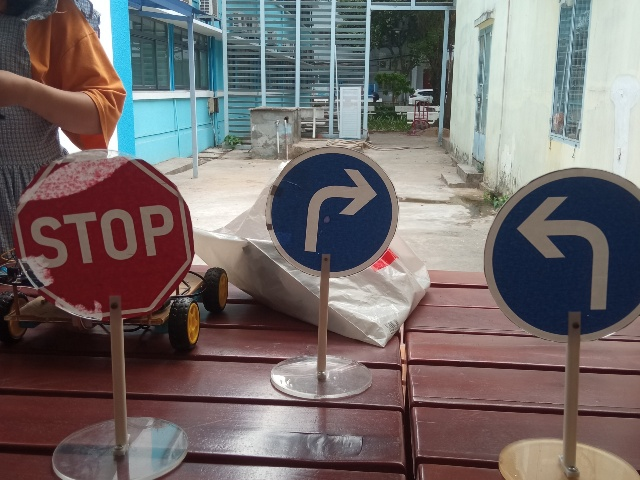Left_Sign: (483, 168, 640, 343)
Right_Sign: (266, 146, 399, 278)
Stop_Sign: (14, 149, 195, 321)
